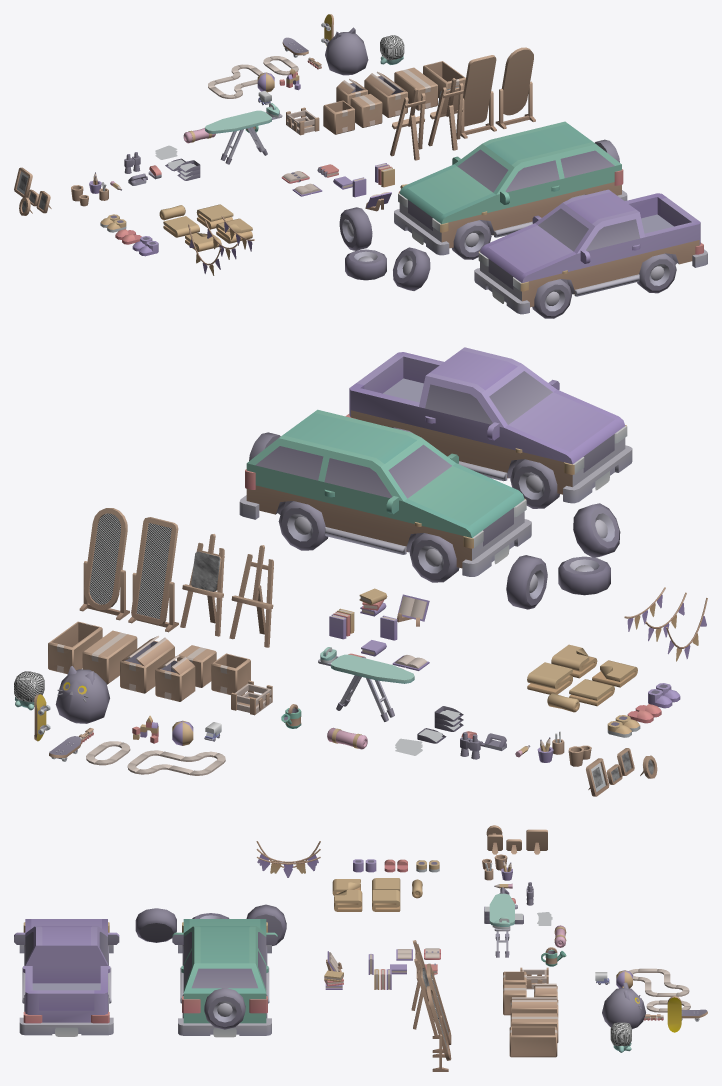
The model's file is _custom.glb.
3 views of the same model, one above another, from view 1: azimuth 30°, elevation 25°; view 2: azimuth 150°, elevation 25°; view 3: azimuth 270°, elevation 25° (orthographic). The views are drawn at different scales.
Visible parts, largest first — view 1: car-flatbed, car, mirror-standing, mirror-standing-round, plush-cat, ironing-board, easel, car-wheel-diagonal, cardboard-box-long-open, car-wheel-vertical, easel-empty, car-wheel-horizontal (+11 smaller); view 2: car, car-flatbed, mirror-standing, mirror-standing-round, plush-cat, easel, ironing-board, car-wheel-diagonal, cardboard-box-long-open, easel-empty, cardboard-box-long-empty, car-wheel-vertical (+13 smaller); view 3: car, car-flatbed, cardboard-box-long-empty, plush-cat, car-wheel-diagonal, ironing-board, cardboard-box-long-open, car-wheel-vertical, mirror-standing-round, cardboard-box-long, toy-train-track-large, easel (+9 smaller).
Part boxes in pixels (x1,y1,x2,y2): car-flatbed: (474,189,707,318); car: (394,121,627,259); mirror-standing: (460,55,496,138); mirror-standing-round: (495,47,535,128); plush-cat: (325,27,368,75); ironing-board: (205,110,282,164); easel: (428,78,463,150); car-wheel-diagonal: (393,247,430,290); cardboard-box-long-open: (364,71,407,117); car-wheel-vertical: (339,207,372,250); easel-empty: (390,88,425,160); car-wheel-horizontal: (345,249,386,280); car: (239,409,531,582); car-flatbed: (345,347,632,508); mirror-standing: (128,517,178,632); mirror-standing-round: (79,508,129,620); plush-cat: (55,666,109,723); easel: (180,534,224,636); ironing-board: (318,654,414,721); car-wheel-diagonal: (573,503,620,557); cardboard-box-long-open: (120,635,174,693); easel-empty: (229,545,273,647); cardboard-box-long-empty: (48,621,102,674); car-wheel-vertical: (506,555,547,609); car: (172,919,277,1037); car-flatbed: (14,919,119,1036); cardboard-box-long-empty: (509,1026,557,1057); plush-cat: (602,982,645,1029); car-wheel-diagonal: (135,908,176,942); ironing-board: (489,893,514,957); cardboard-box-long-open: (510,997,558,1013); car-wheel-vertical: (246,904,286,945); mirror-standing-round: (426,985,451,1071); cardboard-box-long: (510,1013,558,1042); toy-train-track-large: (629,968,689,996); easel: (413,958,437,1035).
Bounding box in the file's own units: 8.66 × 1.39 × 10.96.
Materials: 4 (3 with a texture image).
